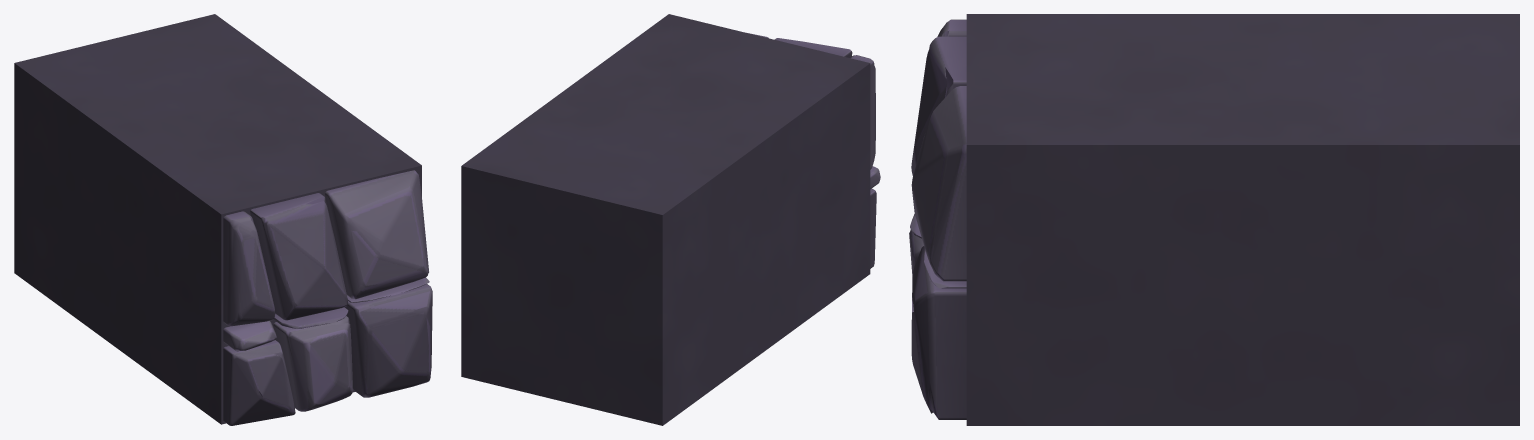
The model's file is EF_T04_StackedBasaltCore_V3.fbx.
3 renders of one model, left to right at view 1: azimuth 30°, elevation 25°; view 2: azimuth 150°, elevation 25°; view 3: azimuth 270°, elevation 25°, orthographic. The views are drawn at different scales.
Parts seen in each view (by area): view 1: Rock; view 2: Rock; view 3: Rock.
Boxes of the visible parts, x1,y1,x2,y2 form: Rock: (14, 14, 432, 425); Rock: (461, 14, 880, 425); Rock: (909, 14, 1519, 425).
Size of the model in its own units: 2 by 2 by 3.94.
